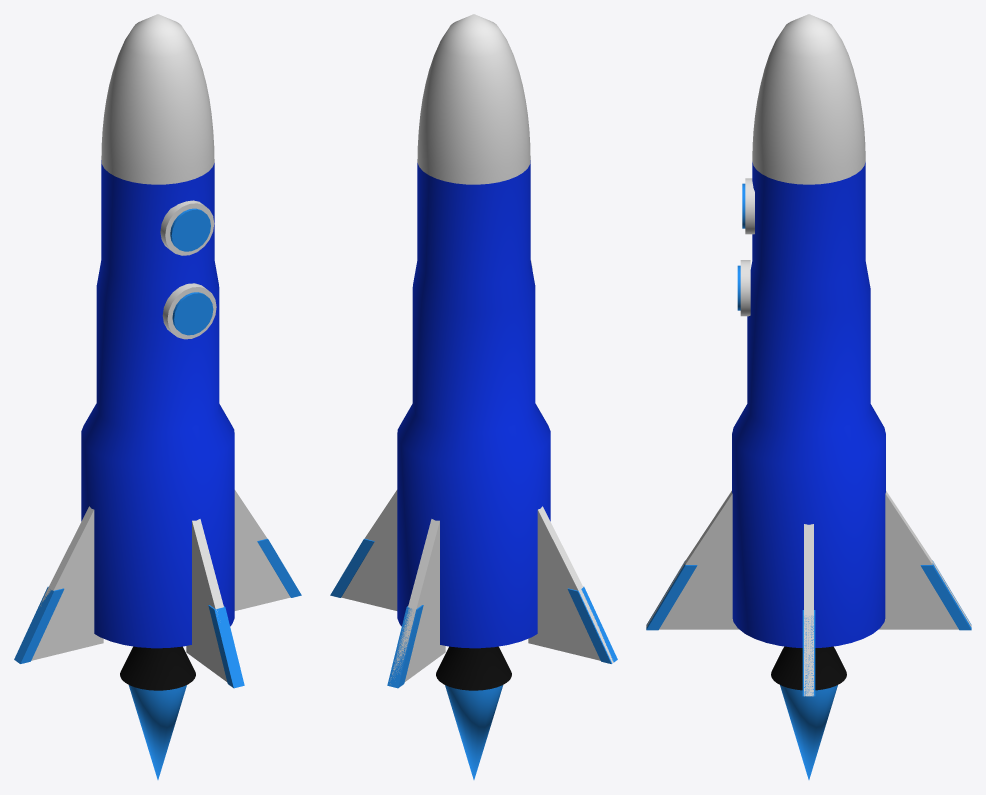
The model's file is Rocket_19_CobaltTower.obj.
3 renders of one model, left to right at view 1: azimuth 30°, elevation 25°; view 2: azimuth 150°, elevation 25°; view 3: azimuth 270°, elevation 25°, orthographic.
Parts seen in each view (by area): view 1: R19_Body, R19_Nose, R19_Fin_2, R19_Fin_4, R19_Fin_3, R19_Nozzle_1, R19_Flame_1, R19_Window_1, R19_FinGlow_3, R19_Window_2, R19_FinGlow_2, R19_WindowFrame_2 (+2 smaller); view 2: R19_Body, R19_Nose, R19_Fin_2, R19_Fin_1, R19_Fin_4, R19_Nozzle_1, R19_Flame_1, R19_FinGlow_1, R19_FinGlow_2, R19_FinGlow_4; view 3: R19_Body, R19_Nose, R19_Fin_1, R19_Fin_3, R19_Flame_1, R19_Nozzle_1, R19_Fin_4, R19_FinGlow_3, R19_FinGlow_1, R19_WindowFrame_2, R19_FinGlow_4.
Part boxes in pixels (x1,y1,x2,y2): R19_Body: (81, 160, 234, 648); R19_Nose: (101, 14, 214, 184); R19_Fin_2: (31, 506, 103, 660); R19_Fin_4: (234, 490, 290, 610); R19_Fin_3: (186, 519, 226, 681); R19_Nozzle_1: (120, 646, 195, 690); R19_Flame_1: (128, 685, 186, 779); R19_Window_1: (170, 208, 210, 251); R19_FinGlow_3: (208, 605, 244, 688); R19_Window_2: (172, 292, 213, 335); R19_FinGlow_2: (14, 586, 64, 663); R19_WindowFrame_2: (162, 283, 216, 339); R19_Body: (397, 160, 550, 648); R19_Nose: (417, 14, 530, 184); R19_Fin_2: (528, 506, 613, 663); R19_Fin_1: (389, 519, 445, 683); R19_Fin_4: (341, 490, 397, 610); R19_Nozzle_1: (436, 646, 511, 690); R19_Flame_1: (445, 685, 503, 779); R19_FinGlow_1: (387, 605, 423, 688); R19_FinGlow_2: (567, 586, 617, 663); R19_FinGlow_4: (330, 538, 374, 597); R19_Body: (732, 162, 885, 647); R19_Nose: (752, 14, 865, 184); R19_Fin_1: (879, 491, 971, 629); R19_Fin_3: (646, 491, 738, 629); R19_Flame_1: (780, 685, 837, 779); R19_Nozzle_1: (771, 646, 846, 690); R19_Fin_4: (804, 524, 813, 696); R19_FinGlow_3: (646, 560, 697, 630); R19_FinGlow_1: (920, 560, 971, 630); R19_WindowFrame_2: (740, 260, 750, 316); R19_FinGlow_4: (802, 610, 815, 696).
Bounding box in the file's own units: 4.01 × 10.45 × 4.01.
